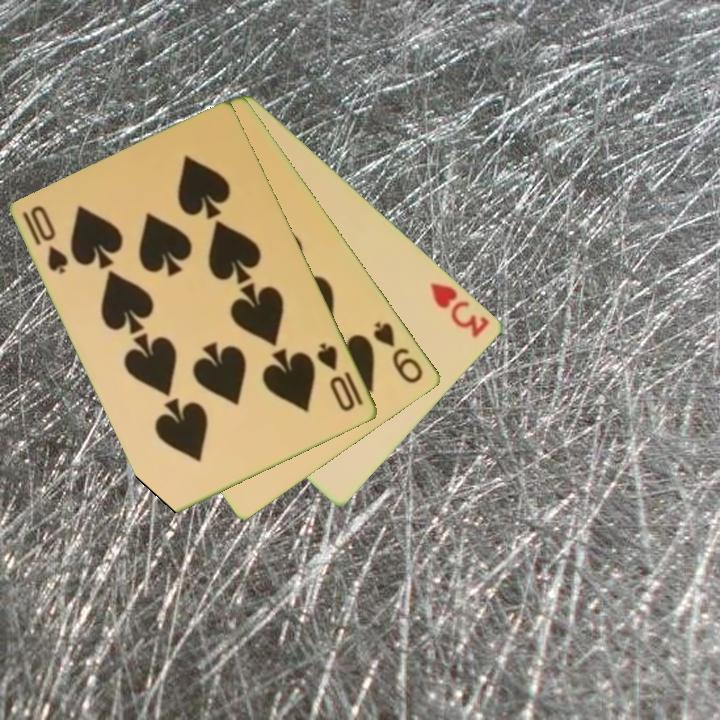10s: (314, 339, 367, 415), (19, 202, 72, 278)
3h: (427, 278, 493, 341)
9s: (370, 317, 427, 387)
